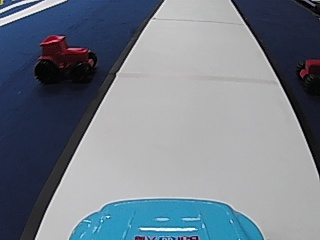tractor: (33, 32, 98, 84), (295, 57, 320, 95)
